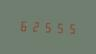five: (42, 19, 53, 34), (66, 20, 77, 35), (54, 20, 65, 34)
six: (18, 18, 29, 33)
two: (30, 19, 41, 33)
